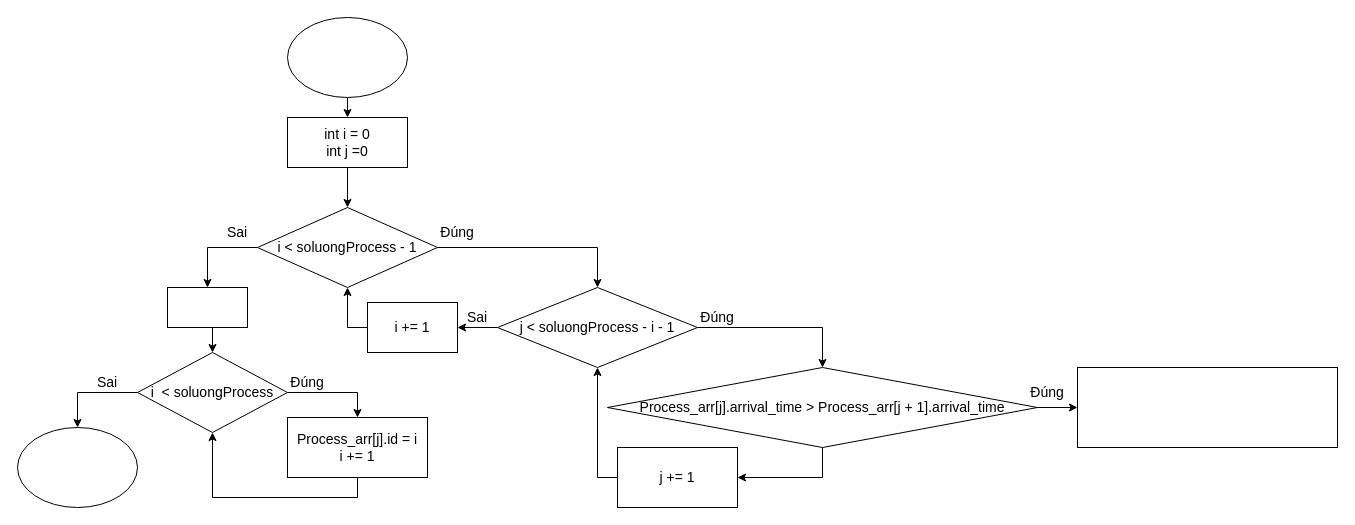
This 1355x525 diagram has some shape labels left out. The shapes that lost their labels are listed below. From the top down, each one's box as (x1, y1, x2, y2) in pixels, then its label:
(286, 16, 408, 98): Bắt đầu
(166, 286, 248, 328): int i = 0
(1076, 366, 1338, 448): swap(Process_arr[j], Process_arr[j +1])
(16, 426, 138, 508): Kết thúc
